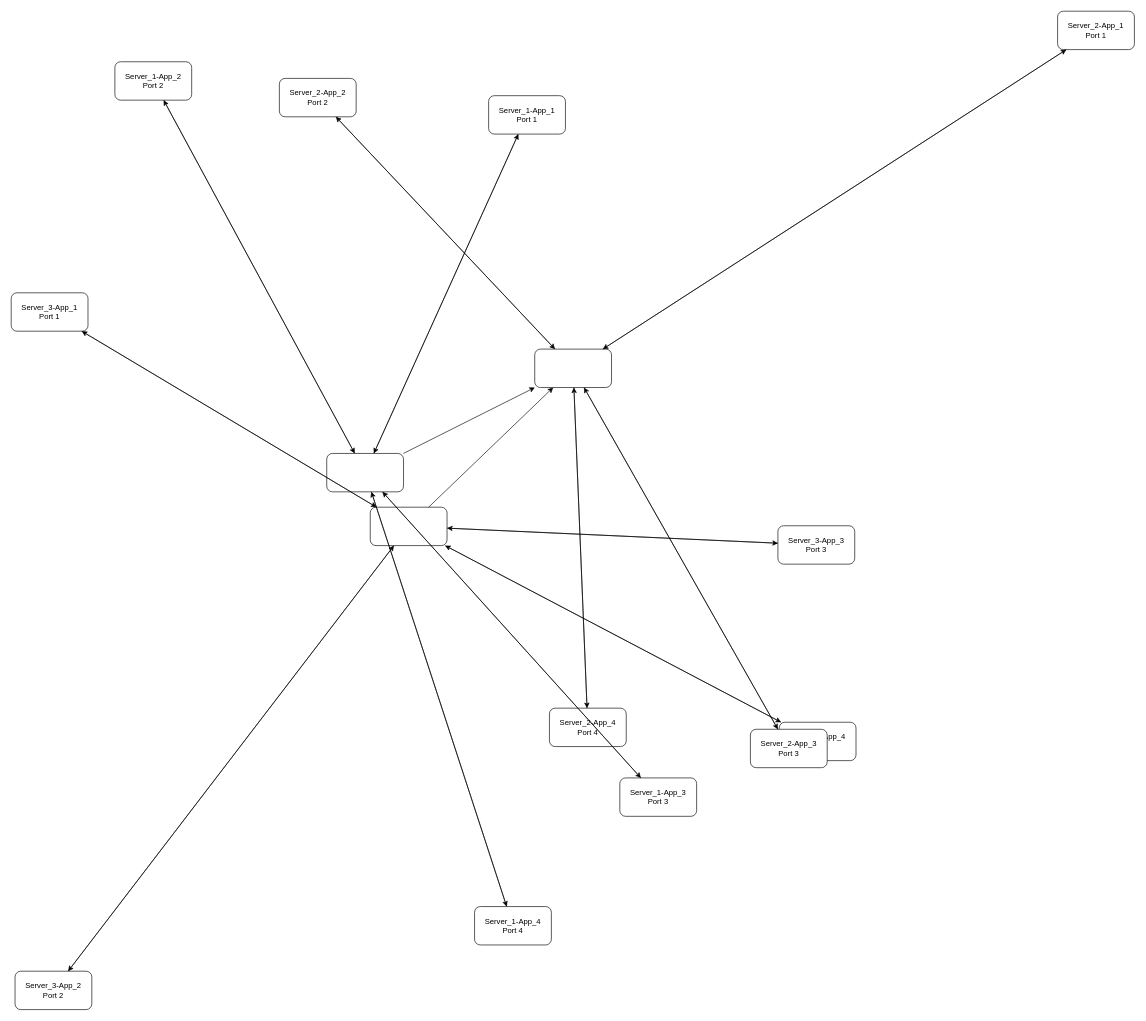
Image size: 1146x1021. Some labels were removed from this diagram. Each missing label, with the box of its shape:
Server_1 Addr 1: (326, 453, 404, 492)
Server_2 Addr 2: (534, 348, 612, 388)
Server_3 Addr 2: (370, 507, 447, 546)
